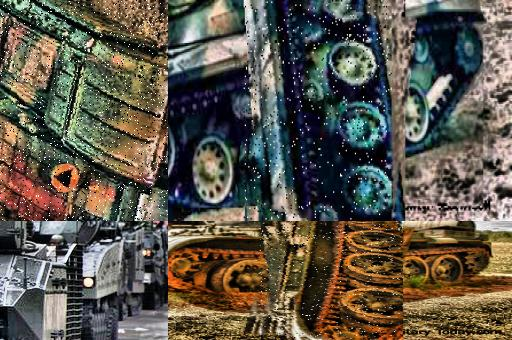tanks: (1, 1, 169, 222), (245, 2, 393, 221), (260, 222, 404, 340), (32, 222, 144, 340), (1, 222, 82, 340)
